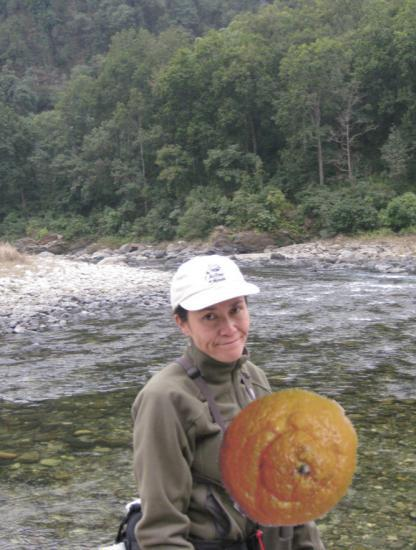Mandarine: (215, 384, 362, 531)
